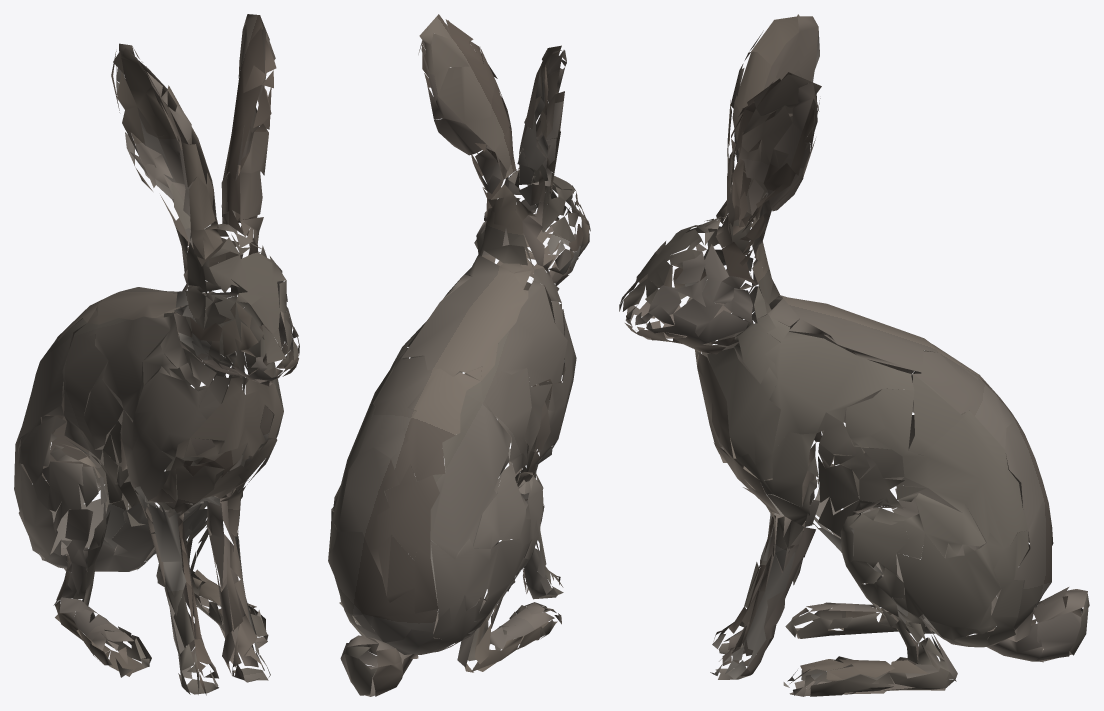
Rendered from jackrabbit.glb.
The picture shows the model from 3 angles, left to right: view 1: azimuth 30°, elevation 25°; view 2: azimuth 150°, elevation 25°; view 3: azimuth 270°, elevation 25°; orthographic projection. The views are drawn at different scales.
Visible parts, largest first — view 1: LO.001; view 2: LO.001; view 3: LO.001.
Part boxes in pixels (x1=…): LO.001: x1=14, y1=14, x2=299, y2=695; LO.001: x1=328, y1=14, x2=590, y2=696; LO.001: x1=619, y1=14, x2=1089, y2=696.
Size of the model in its own units: 0.5987 by 1.91 by 1.31.
1 material, 1 textured.
